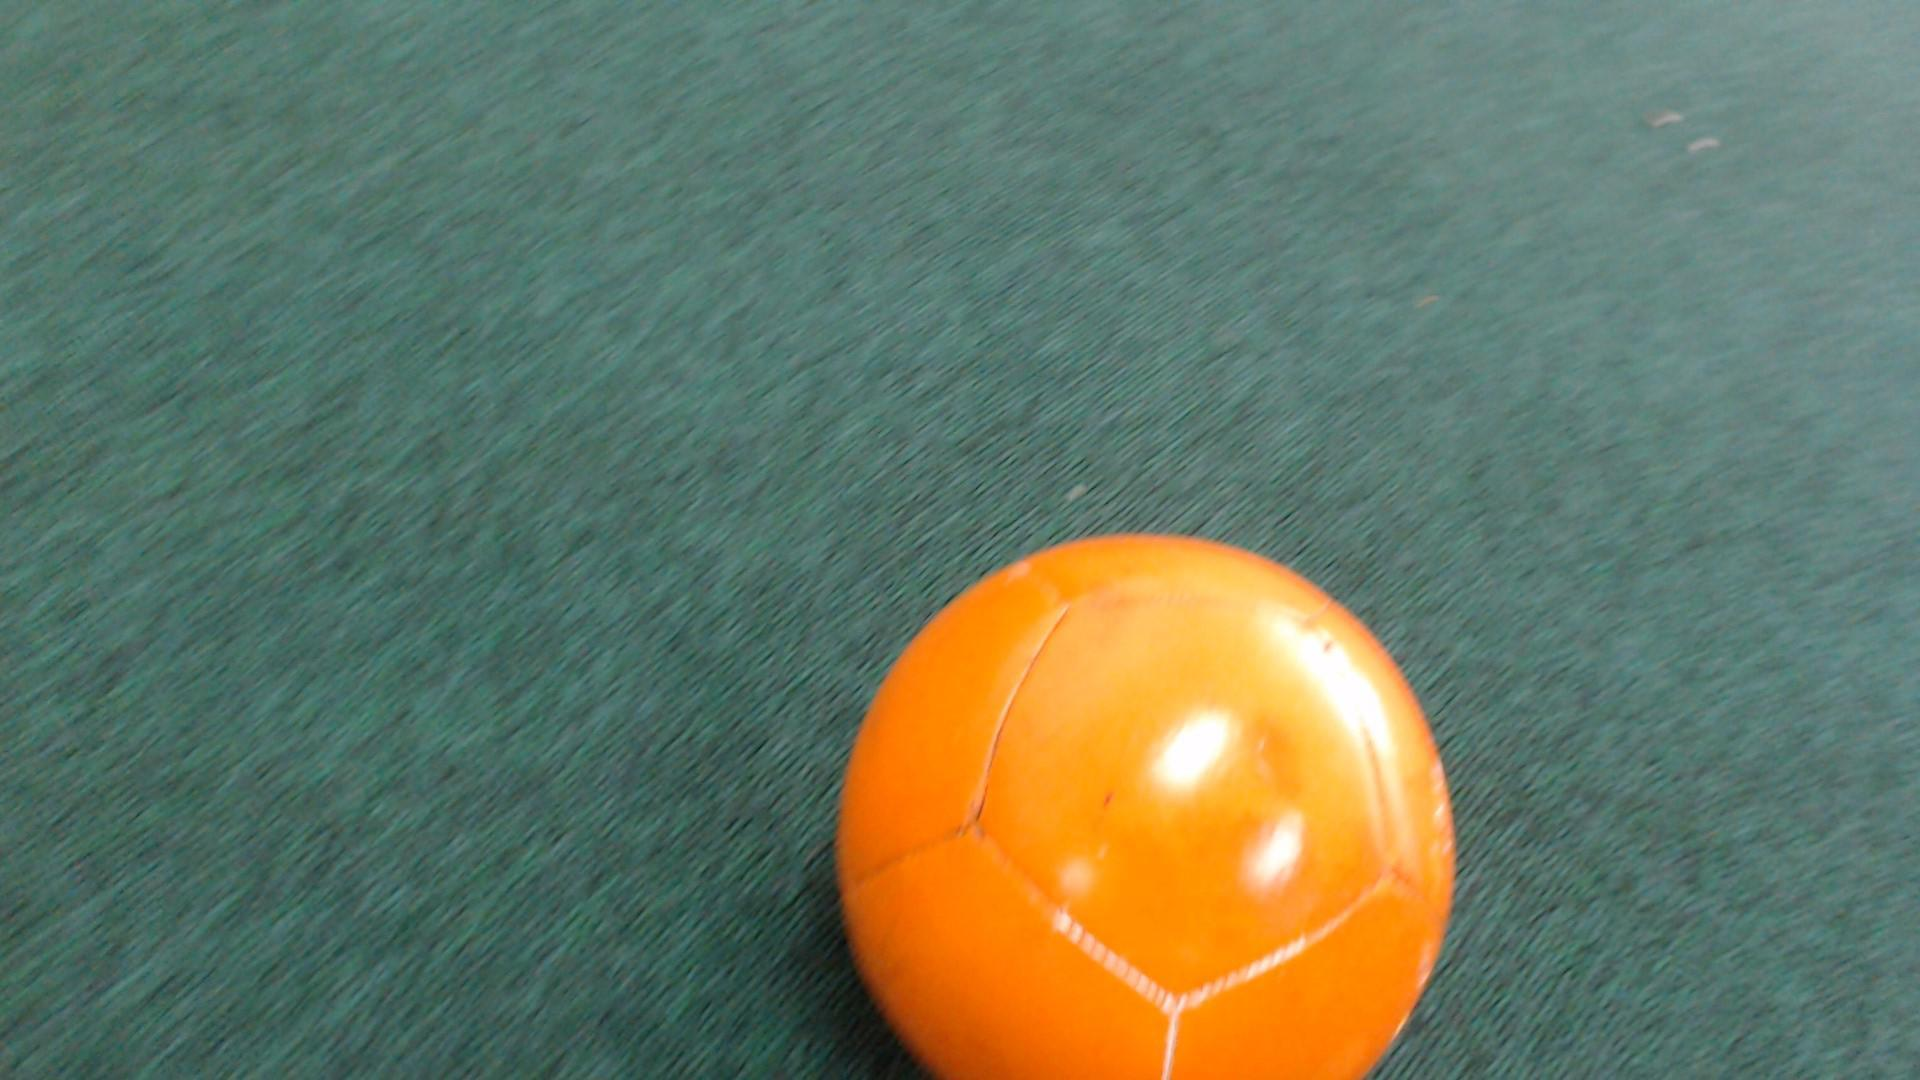bola: (787, 512, 1545, 1079)
